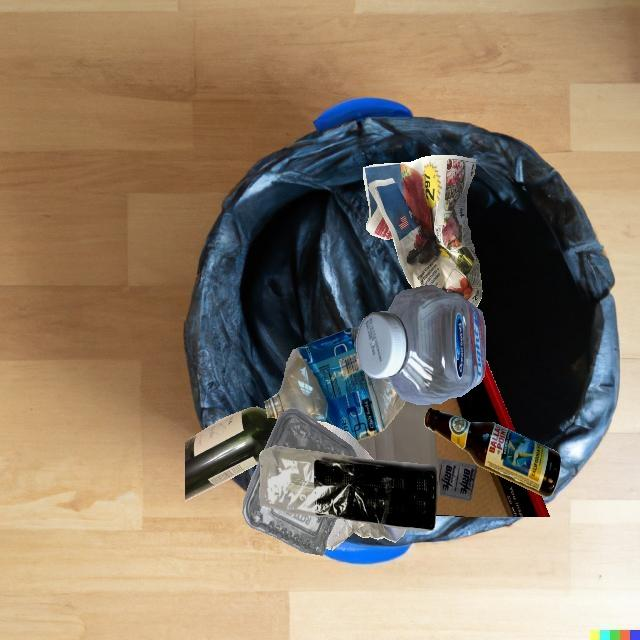cardboard: (435, 432, 549, 517), (432, 359, 515, 432)
glass: (424, 408, 561, 497), (185, 407, 279, 501)
paper: (363, 155, 482, 307), (325, 518, 406, 550), (316, 421, 374, 460)
plastic: (265, 327, 406, 441), (356, 285, 486, 405), (259, 446, 438, 531), (243, 460, 337, 555), (357, 400, 439, 497), (264, 409, 358, 458), (437, 458, 477, 501)
